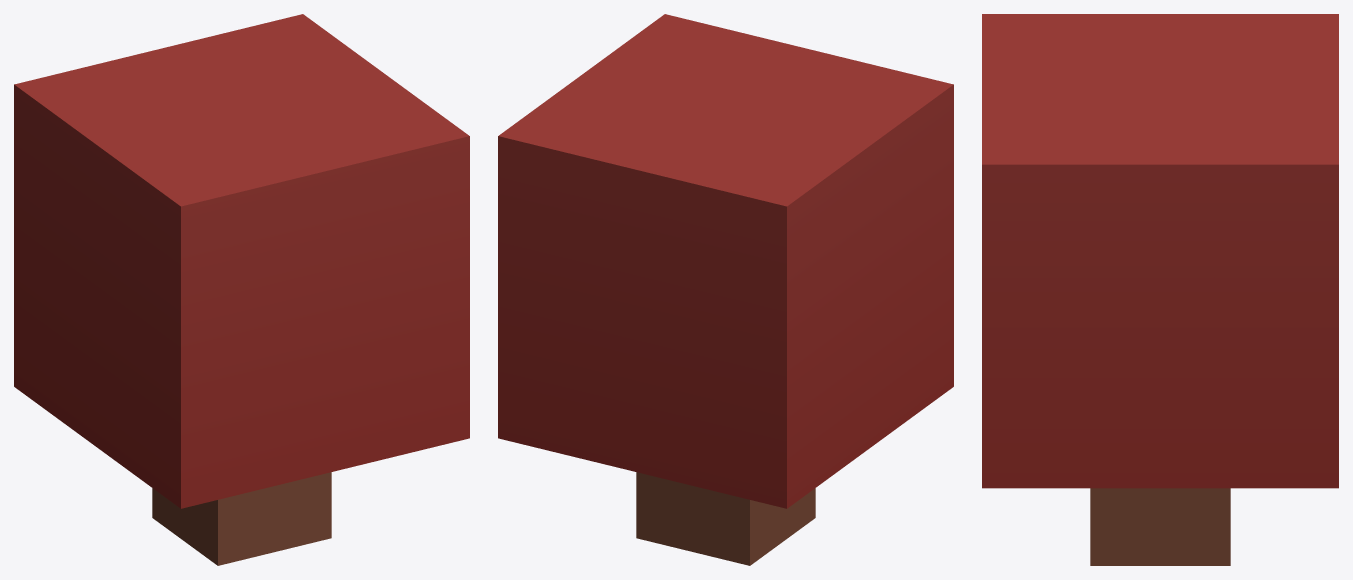
Rendered from Bush_8_gradient_red_vc.fbx.
3 renders of one model, left to right at view 1: azimuth 30°, elevation 25°; view 2: azimuth 150°, elevation 25°; view 3: azimuth 270°, elevation 25°, orthographic. The views are drawn at different scales.
Parts seen in each view (by area): view 1: Bush_8_gradient_red_vc; view 2: Bush_8_gradient_red_vc; view 3: Bush_8_gradient_red_vc.
Part boxes in pixels (x1,y1,x2,y2): Bush_8_gradient_red_vc: (14, 14, 469, 565); Bush_8_gradient_red_vc: (498, 14, 953, 565); Bush_8_gradient_red_vc: (982, 14, 1338, 565).
Bounding box in the file's own units: 38.7 × 53.49 × 38.7.
